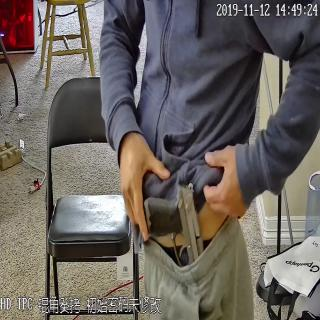gun: (126, 148, 205, 288)
